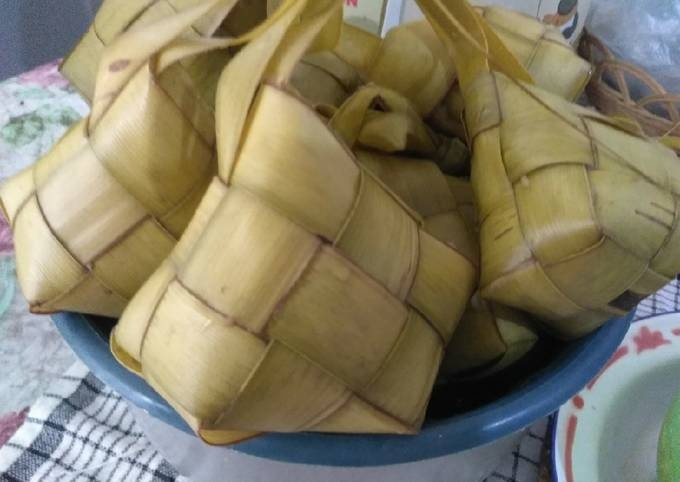ketupat: (110, 78, 476, 438), (453, 63, 680, 338)
